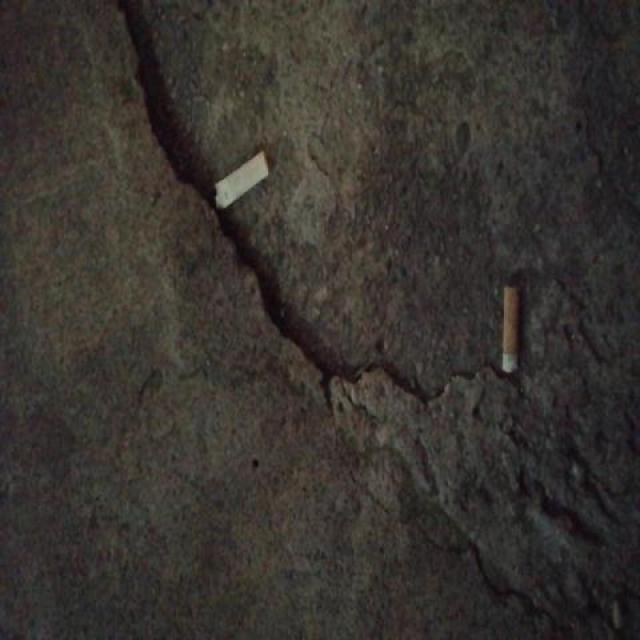non-organic waste: (212, 144, 272, 213), (498, 280, 522, 377)
